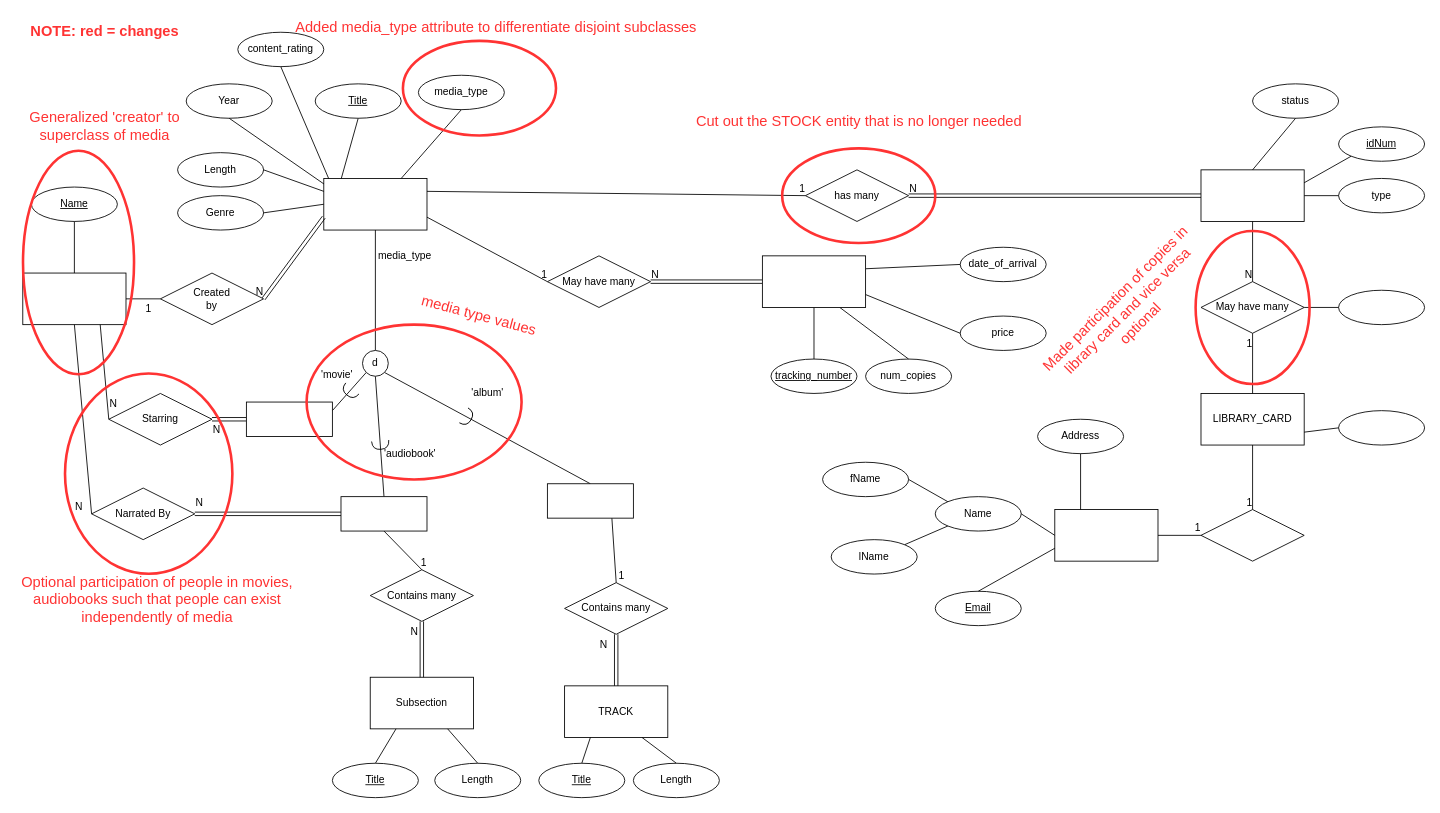
This 1440x813 diagram has some shape labels left out. Each missing label, with the box of its shape:
ALBUM: (547, 483, 633, 518)
AUDIOBOOK: (340, 496, 427, 531)
COPY: (1200, 169, 1304, 221)
due_date: (1338, 289, 1425, 325)
idCard: (1338, 410, 1425, 445)
MEDIA: (323, 178, 427, 230)
MOVIE: (246, 401, 332, 436)
ORDER: (762, 255, 866, 307)
Owns: (1200, 509, 1304, 561)
PATRON: (1054, 509, 1158, 561)
PERSON: (22, 272, 126, 325)
